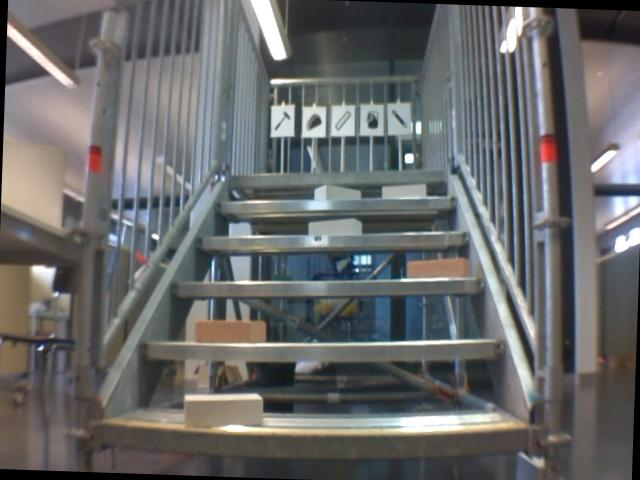brick: (183, 392, 263, 431), (195, 319, 266, 344), (406, 257, 468, 280), (307, 217, 360, 235), (313, 184, 360, 200), (382, 182, 425, 198)
bucket: (361, 108, 379, 129)
edge: (102, 413, 521, 467), (140, 327, 504, 370), (172, 267, 487, 304), (196, 223, 473, 256), (216, 188, 455, 217), (228, 163, 440, 192)
hammer: (271, 108, 293, 134)
pencil: (386, 107, 409, 130)
ruler: (333, 106, 352, 132)
steps: (94, 156, 540, 474)
taco: (301, 110, 323, 133)
